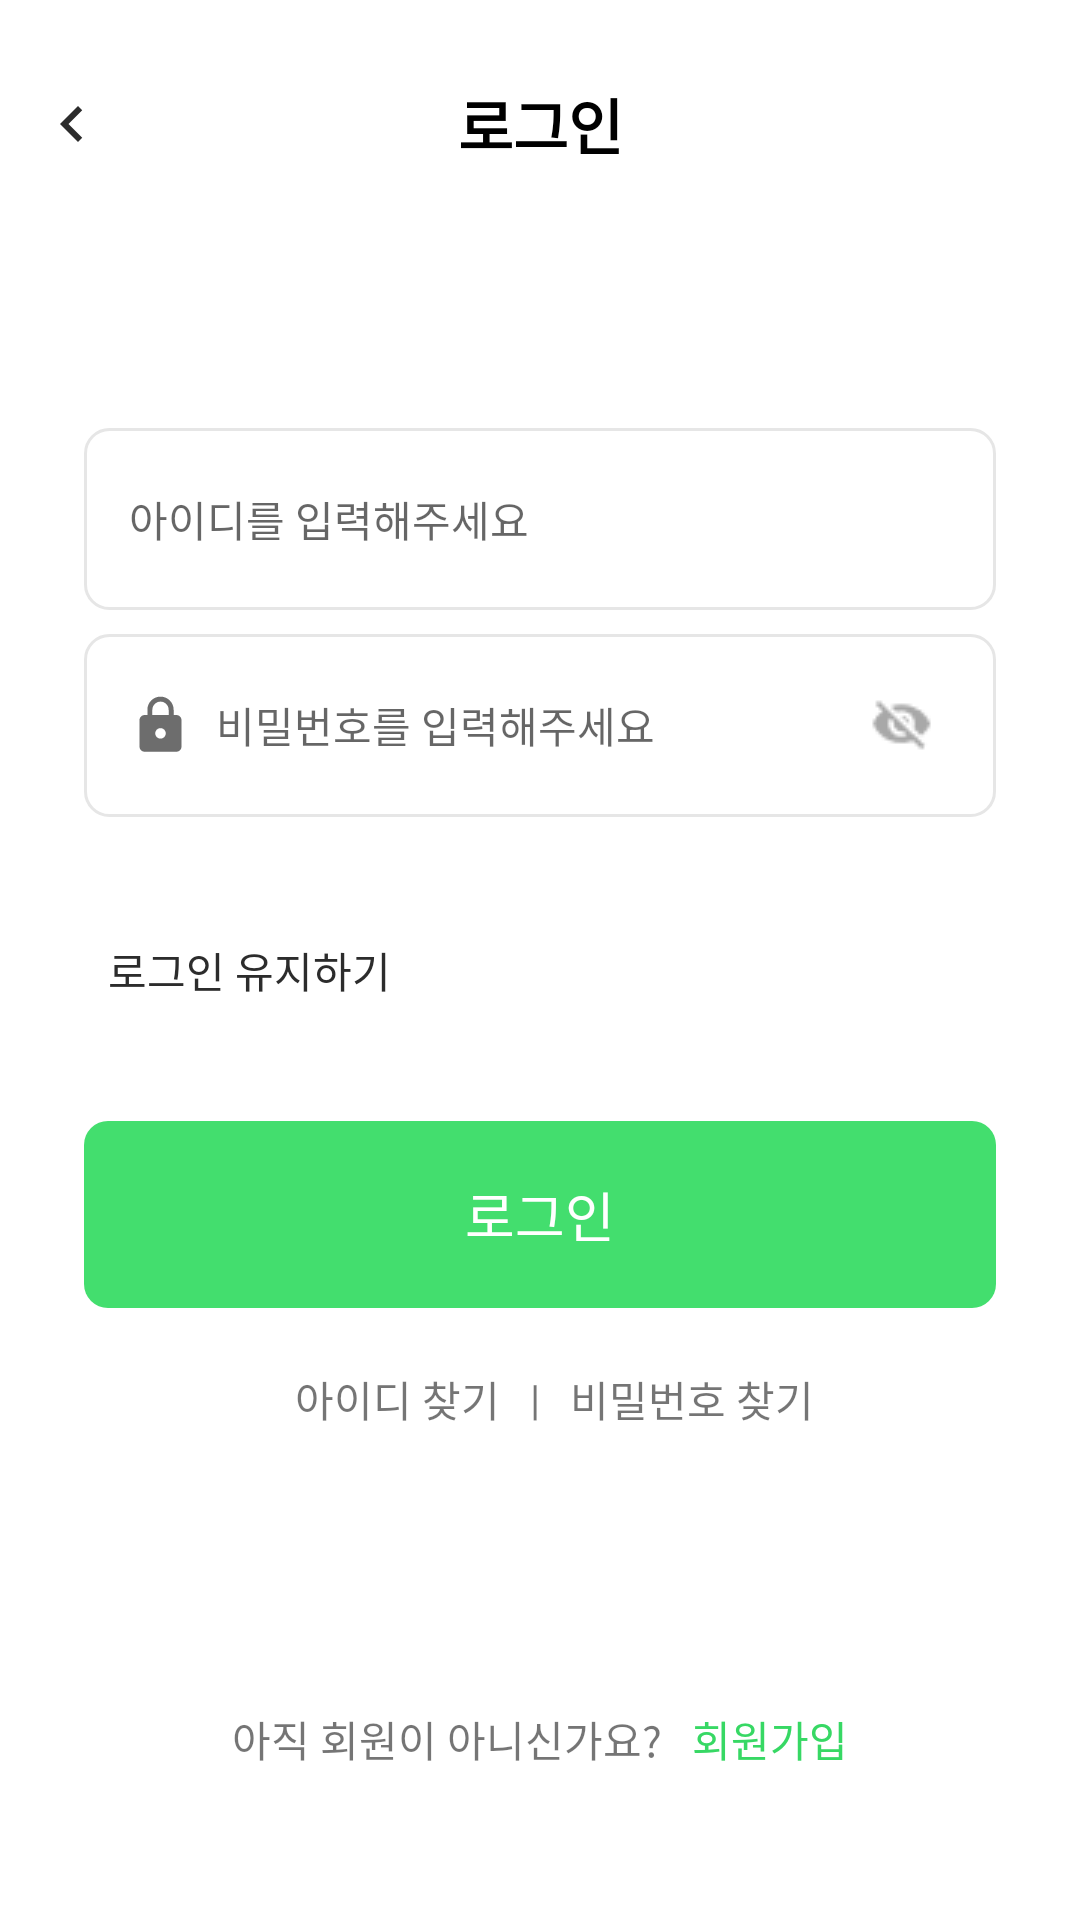

Locate icon controls on the screen. Image size 1080px x 1920px, boxes as bbox=(x1, y1, x2, y2).
before: bbox=(60, 106, 82, 142)
invisible: bbox=(873, 701, 931, 749)
